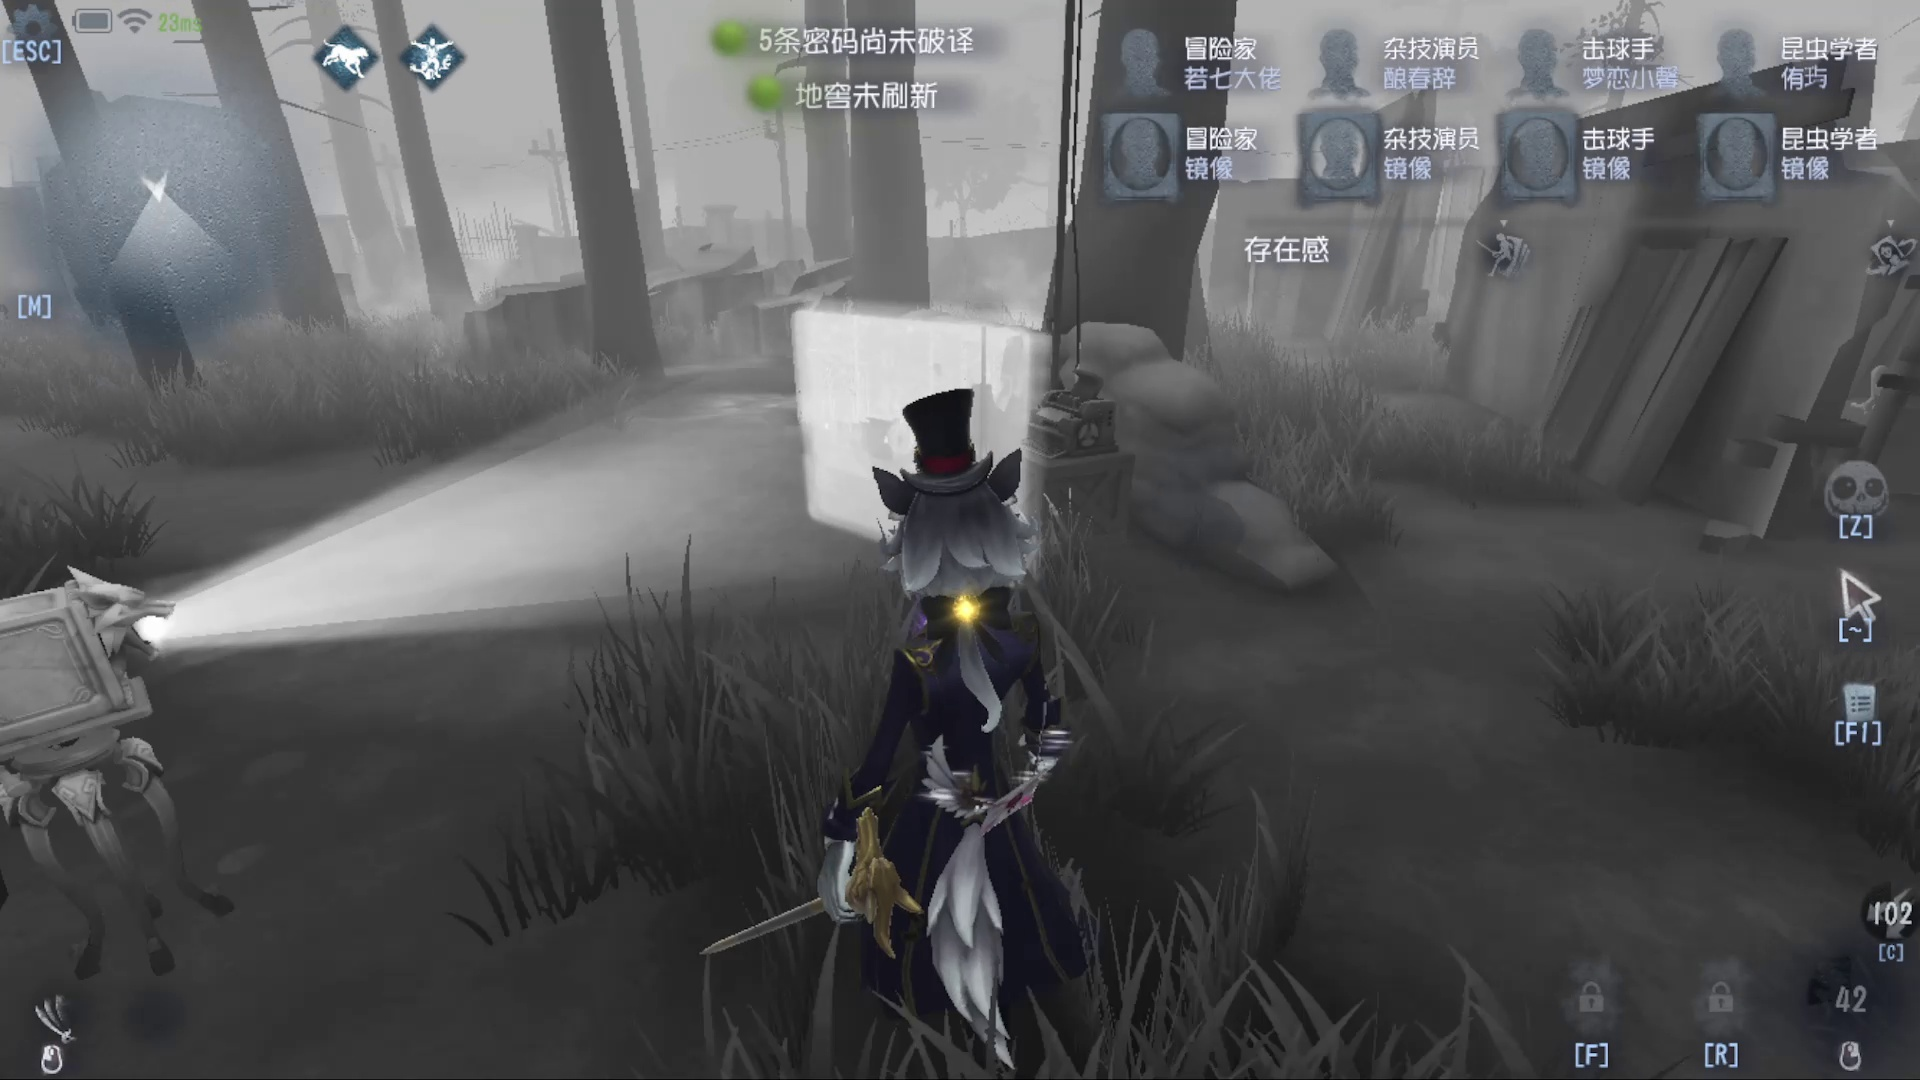密码机: (994, 76, 1172, 556)
